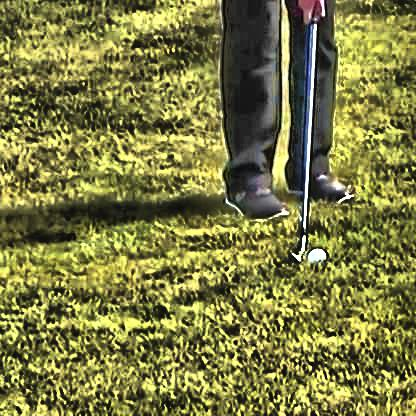golfball: (303, 248, 325, 264)
